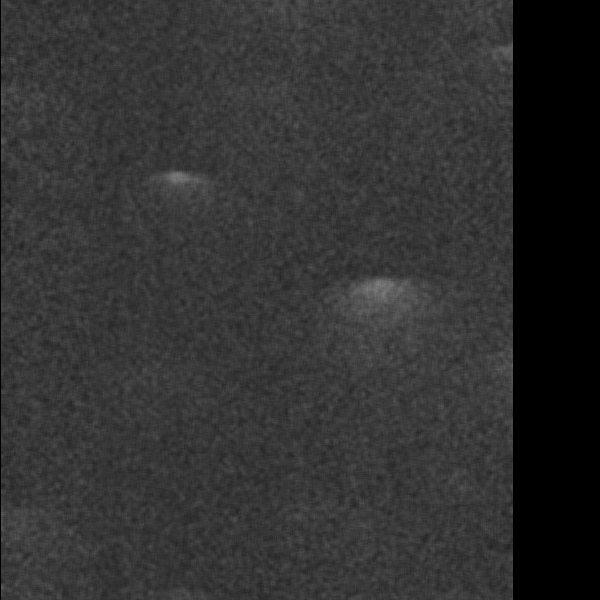spark: (376, 320, 426, 464), (469, 105, 503, 129)
